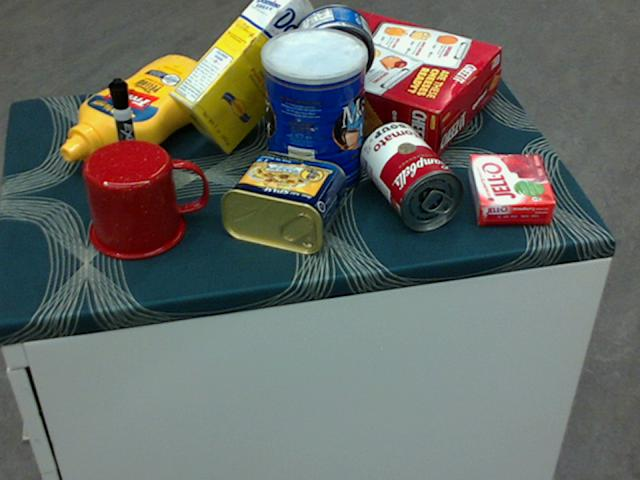cracker_box: (268, 4, 498, 160)
gelatin_box: (465, 155, 555, 224)
large_marker: (106, 79, 143, 188)
master_chef_can: (260, 28, 366, 199)
mug: (83, 139, 208, 260)
mustard_bottle: (59, 55, 220, 162)
potted_meat_can: (219, 151, 344, 253)
sugar_box: (167, 0, 330, 156)
tomato_soup_can: (360, 121, 463, 230)
tuna_fish_can: (291, 3, 374, 87)
